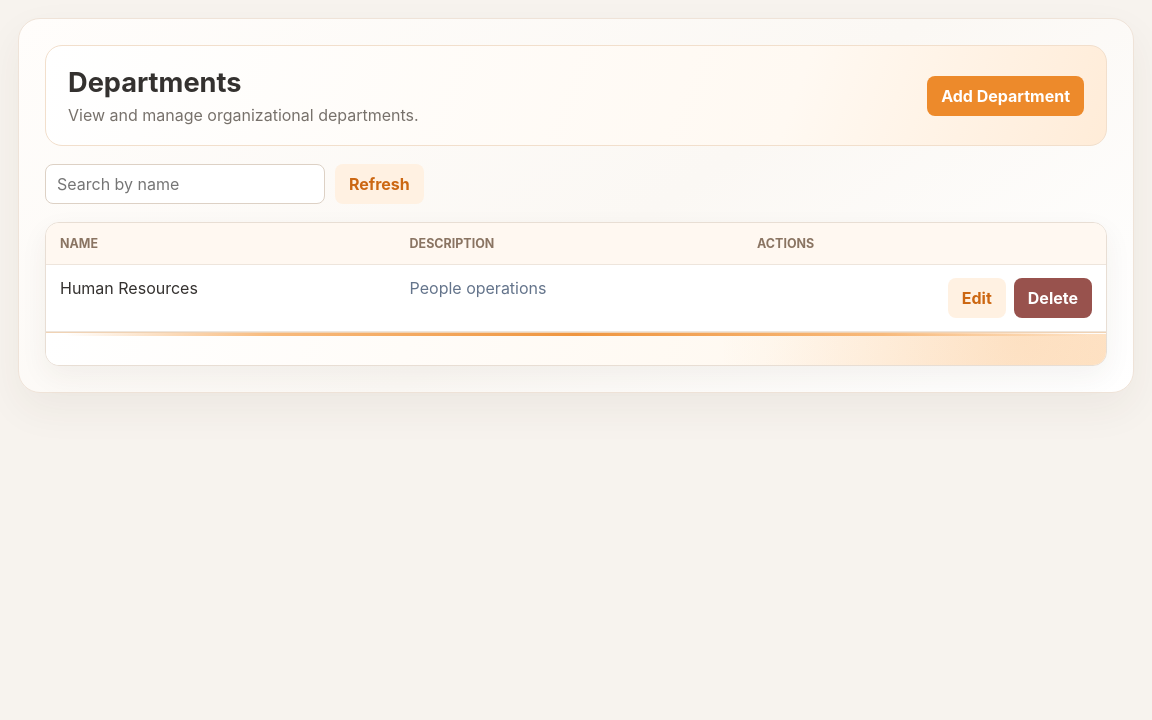
it: DepartmentListComponent › handles delete conflict safely
Click the button "Delete". click: (1053, 298)
box: [1014,278,1092,318]
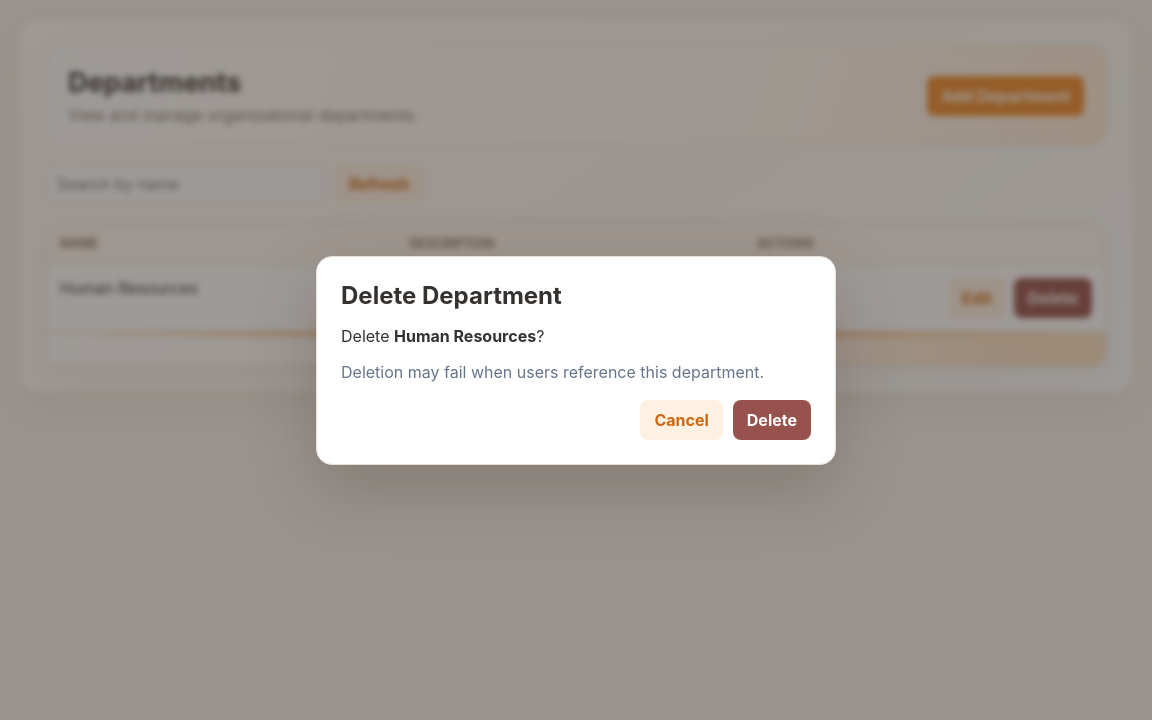
Click the button with class "danger-button" showing "Delete". click: (772, 420)
box: [733,400,811,440]
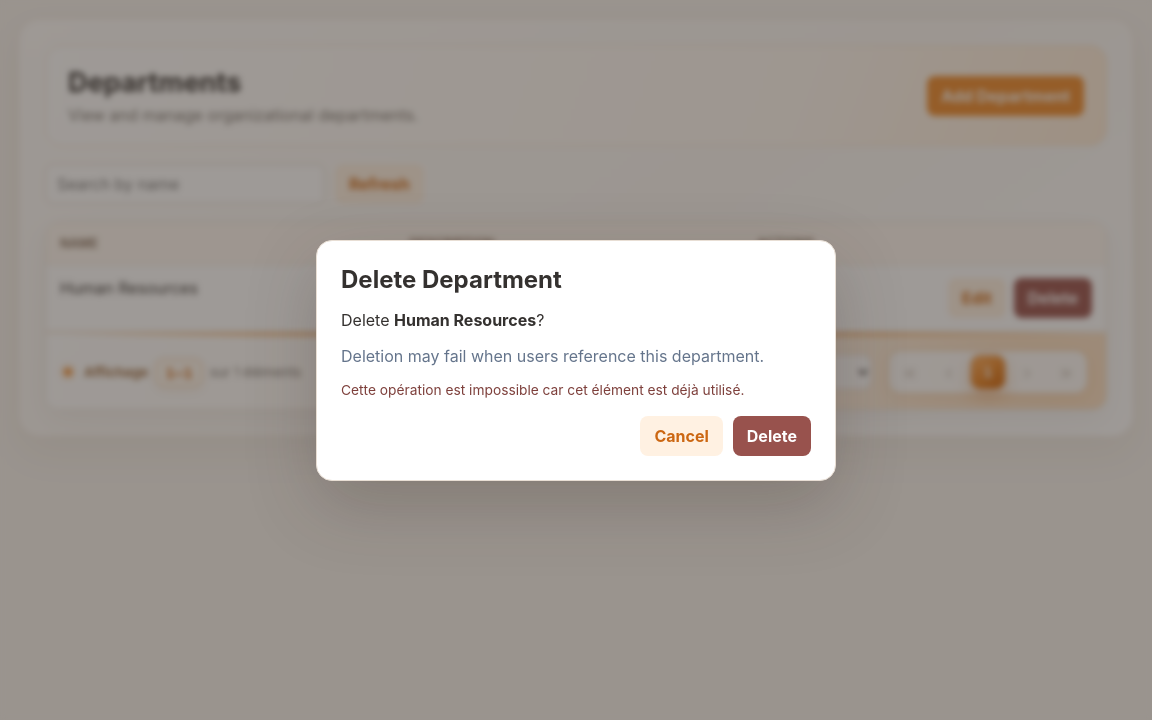
expect the text "Cette opération est impossible car cet élément est déjà utilisé." is shown: met, box [341,382,811,398]
